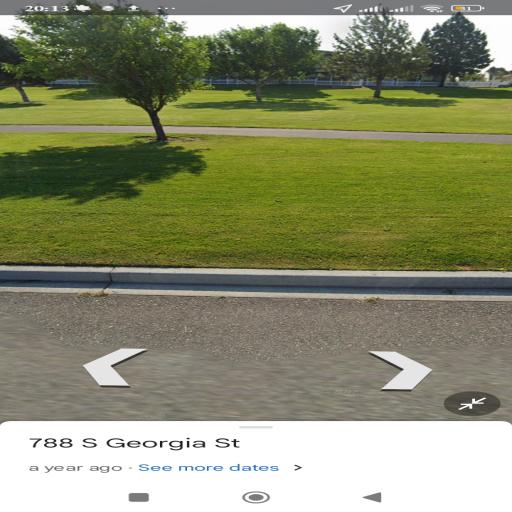Roads: (42, 261, 512, 414)
Trees: (0, 0, 272, 160), (416, 0, 512, 95), (344, 7, 429, 114)
